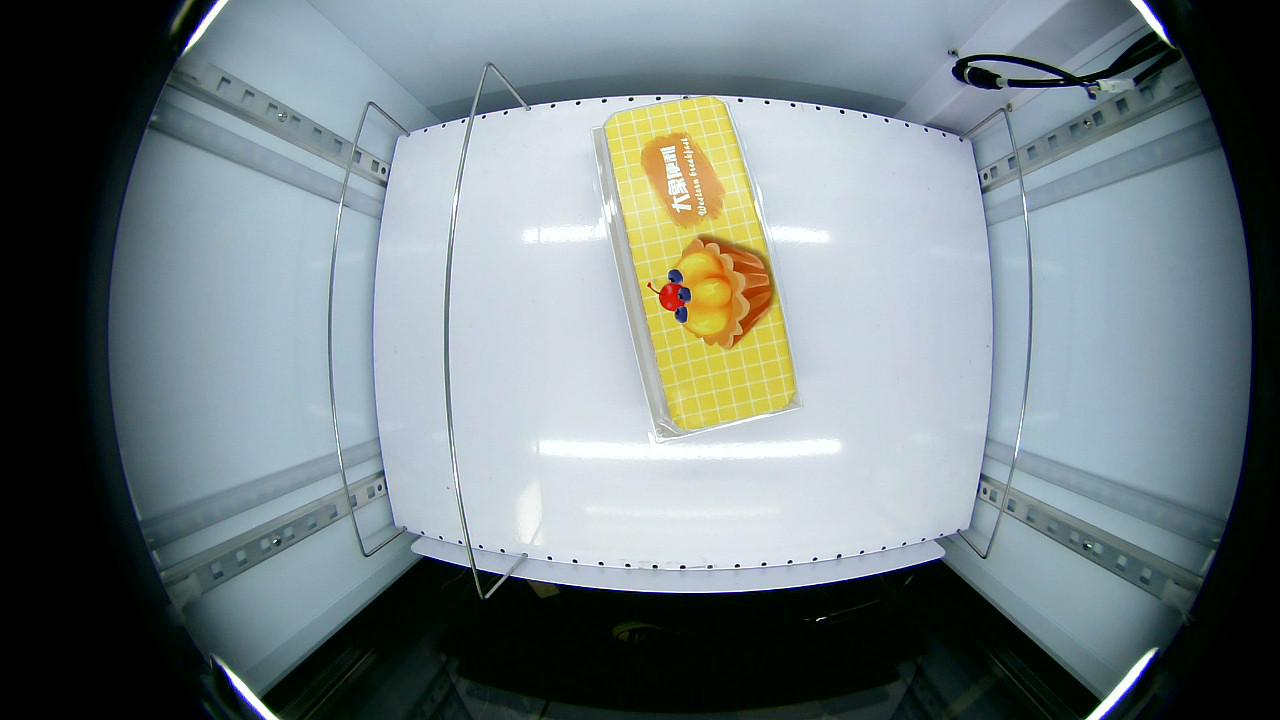goods: (649, 230, 780, 351)
